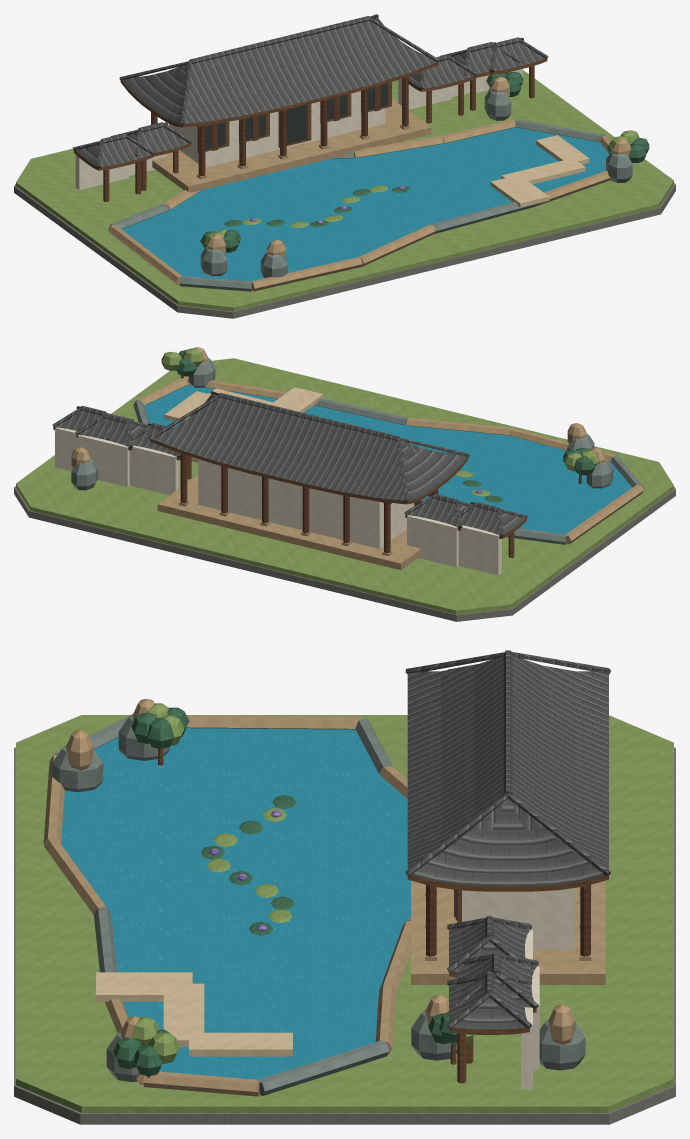
File: suzhou-garden.glb
3 views of the same model, one above another, from view 1: azimuth 30°, elevation 25°; view 2: azimuth 150°, elevation 25°; view 3: azimuth 270°, elevation 25° (orthographic). The views are drawn at different scales.
Visible parts, largest first — view 1: 苏州拙政园; view 2: 苏州拙政园; view 3: 苏州拙政园.
Part boxes in pixels (x1,y1,x2,y2): 苏州拙政园: (14,14,675,318); 苏州拙政园: (14,347,675,621); 苏州拙政园: (14,650,675,1124).
Size of the model in its own units: 12.45 by 2.87 by 8.84.
13 materials, 13 textured.
